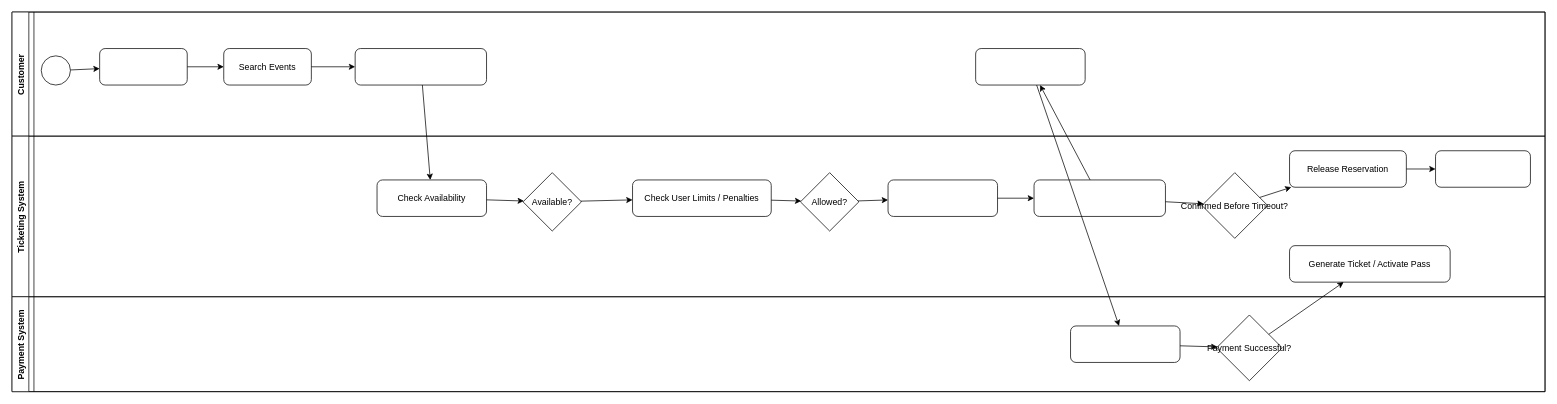
This 1557x404 diagram has some shape labels left out. Each missing label, with the centre of its shape:
Confirm Purchase: (x=1030, y=66)
Create Reservation: (x=942, y=197)
Login / Register: (x=143, y=66)
Notify Customer: (x=1482, y=168)
Process Payment: (x=1125, y=343)
Select Ticket / Season Pass: (x=420, y=66)
Temporarily Hold Tickets: (x=1099, y=197)
